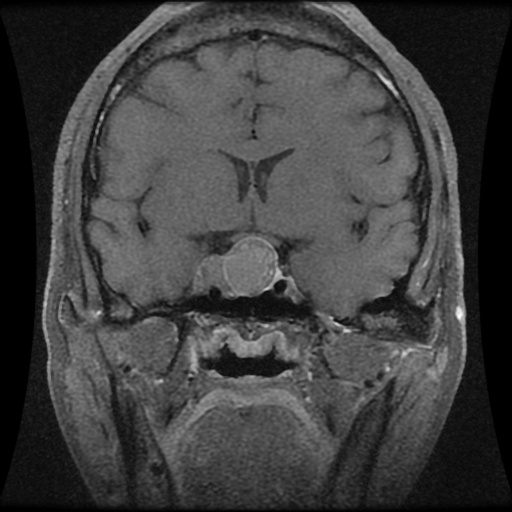pituitary: (193, 237, 279, 296)
